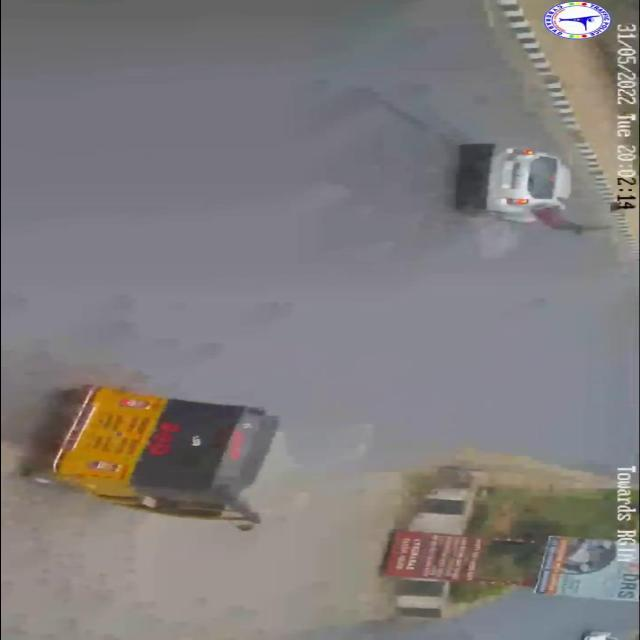accident: (445, 138, 607, 240)
